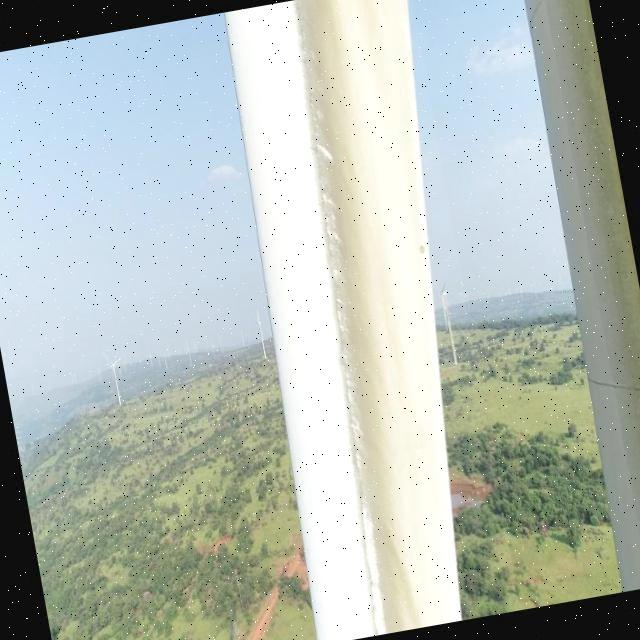Dirt: (293, 0, 465, 639)
